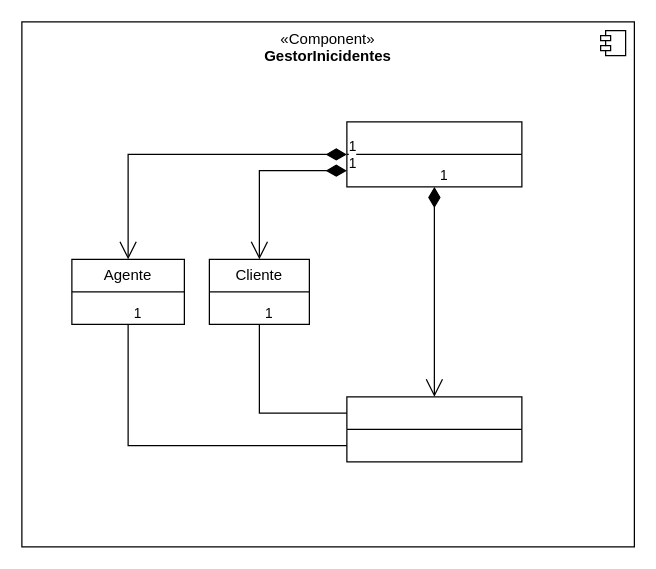
Image size: 656x569. Some labels were removed from this diagram. Here are the shapes that lost their labels. From the top down, the centre of each, then its label:
point 434,154: Receptor
point 434,429: Priorizador
